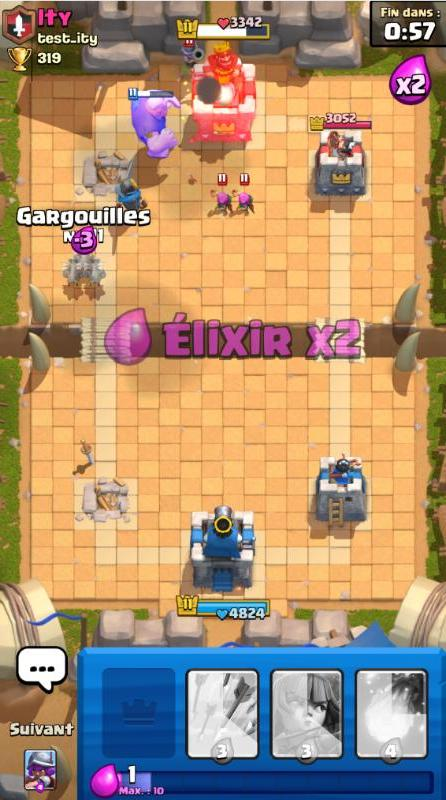archere: (211, 173, 234, 217), (231, 174, 256, 214)
chevalier: (115, 154, 148, 212)
gargouille: (84, 258, 108, 286), (62, 257, 82, 285), (73, 254, 93, 274)
geant: (128, 87, 181, 159)
mousquetaire: (179, 39, 205, 82)
